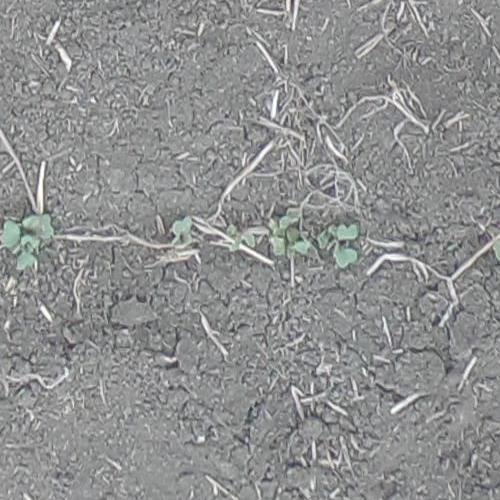plant: (1, 215, 53, 272), (316, 225, 360, 267), (269, 208, 308, 238), (224, 224, 258, 250), (171, 216, 195, 249), (272, 239, 310, 256), (485, 226, 499, 263)
